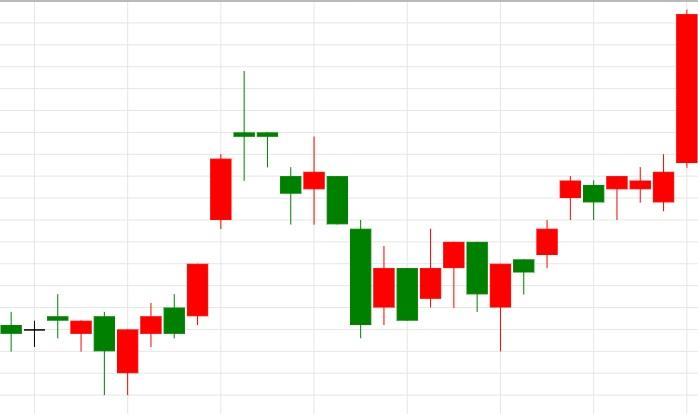bearish_engulfing_fall: (372, 228, 489, 325)
